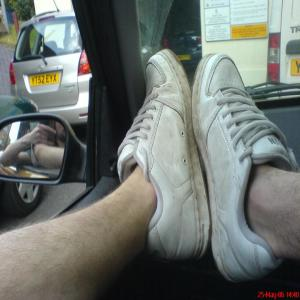Vehicle-registration-plate: (30, 73, 60, 87)
